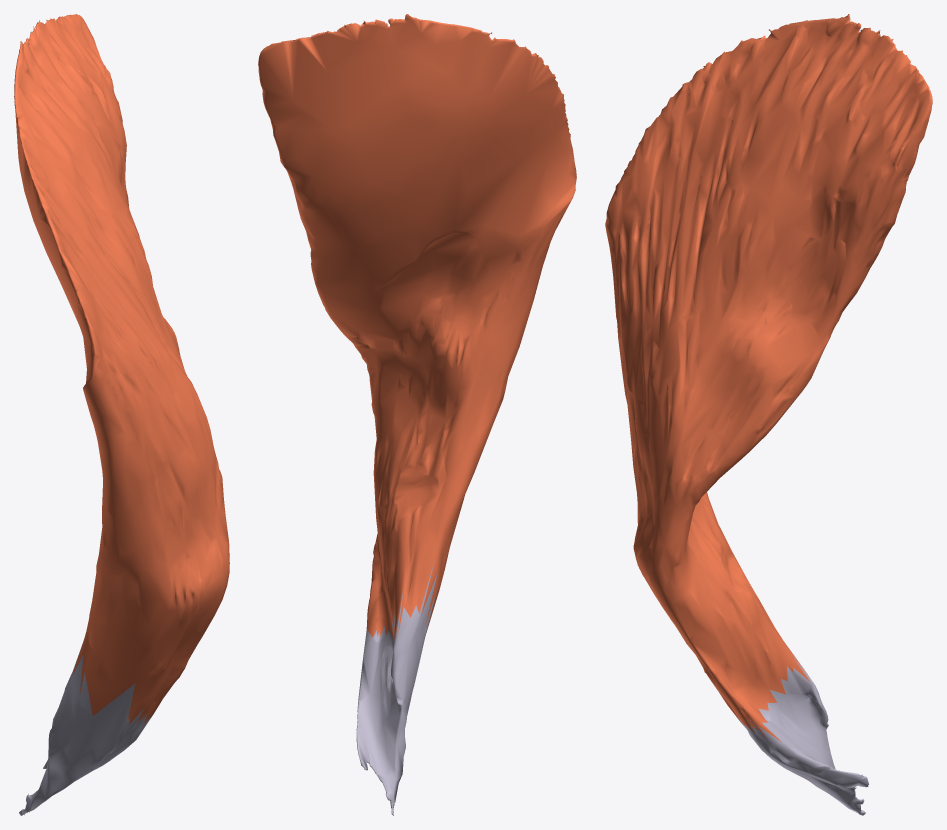
The model's file is Iliacus_muscle.r_Generated_Mesh_From_X3D.478.glb.
The picture shows the model from 3 angles, left to right: view 1: azimuth 30°, elevation 25°; view 2: azimuth 150°, elevation 25°; view 3: azimuth 270°, elevation 25°; orthographic projection. The views are drawn at different scales.
Parts seen in each view (by area): view 1: Iliacus_muscle.r_Generated_Mesh_From_X3D.478; view 2: Iliacus_muscle.r_Generated_Mesh_From_X3D.478; view 3: Iliacus_muscle.r_Generated_Mesh_From_X3D.478.
Boxes of the visible parts, bbox=[...] form: Iliacus_muscle.r_Generated_Mesh_From_X3D.478: bbox=[14, 14, 229, 815]; Iliacus_muscle.r_Generated_Mesh_From_X3D.478: bbox=[258, 14, 576, 815]; Iliacus_muscle.r_Generated_Mesh_From_X3D.478: bbox=[605, 14, 932, 815].
Size of the model in its own units: 0.0561 by 0.2317 by 0.0862.
